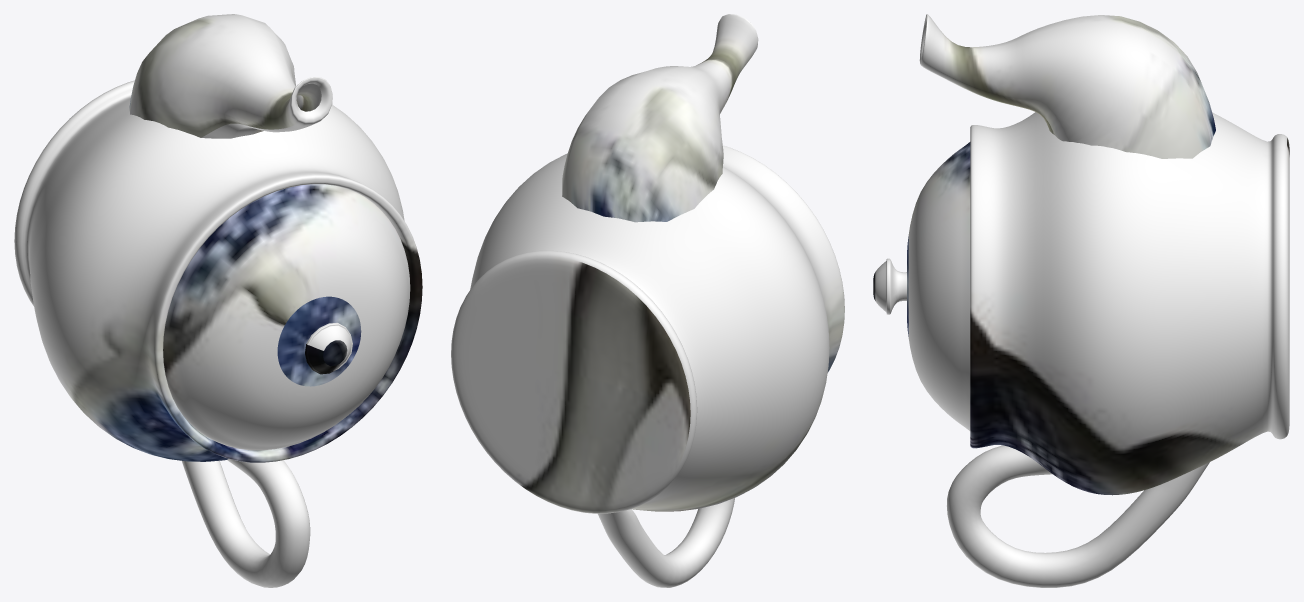
The picture shows the model from 3 angles, left to right: view 1: azimuth 30°, elevation 25°; view 2: azimuth 150°, elevation 25°; view 3: azimuth 270°, elevation 25°; orthographic projection. The views are drawn at different scales.
Bounding box in the file's own units: 0.6648 × 1 × 0.663.
